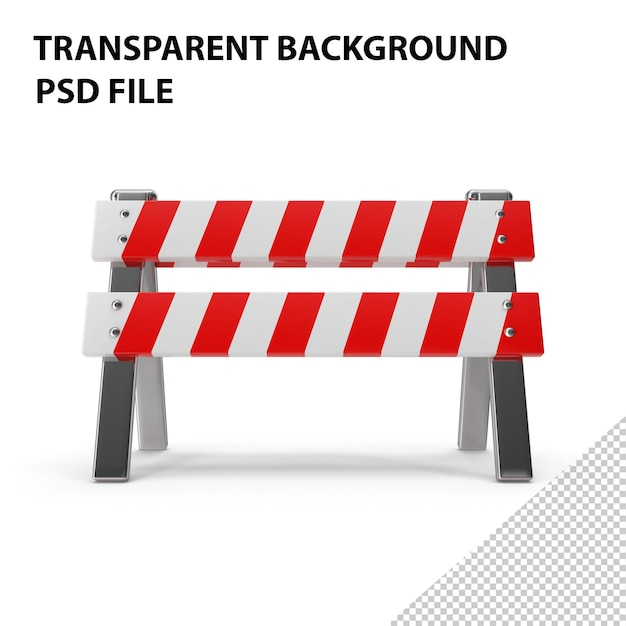Barrier: (71, 180, 557, 498)
